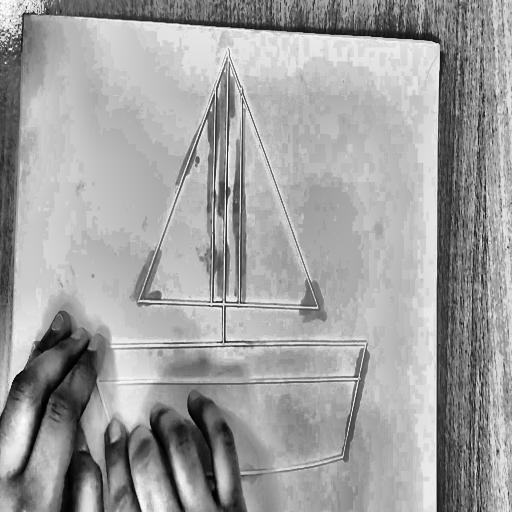boat: (81, 34, 378, 487)
top_left: (19, 4, 31, 24)
top_right: (433, 35, 447, 58)
